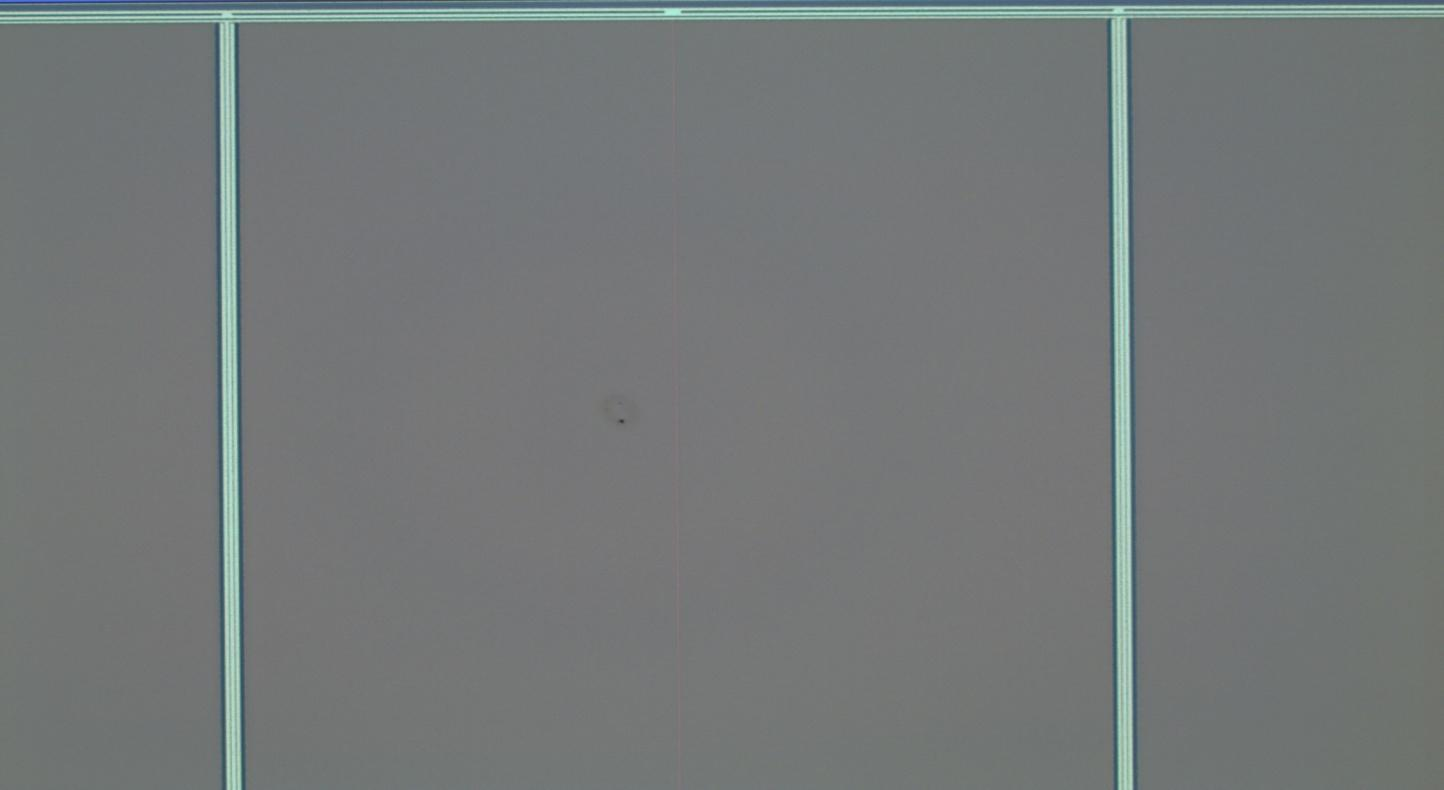PIQ PARTICLE: (597, 390, 649, 442)
